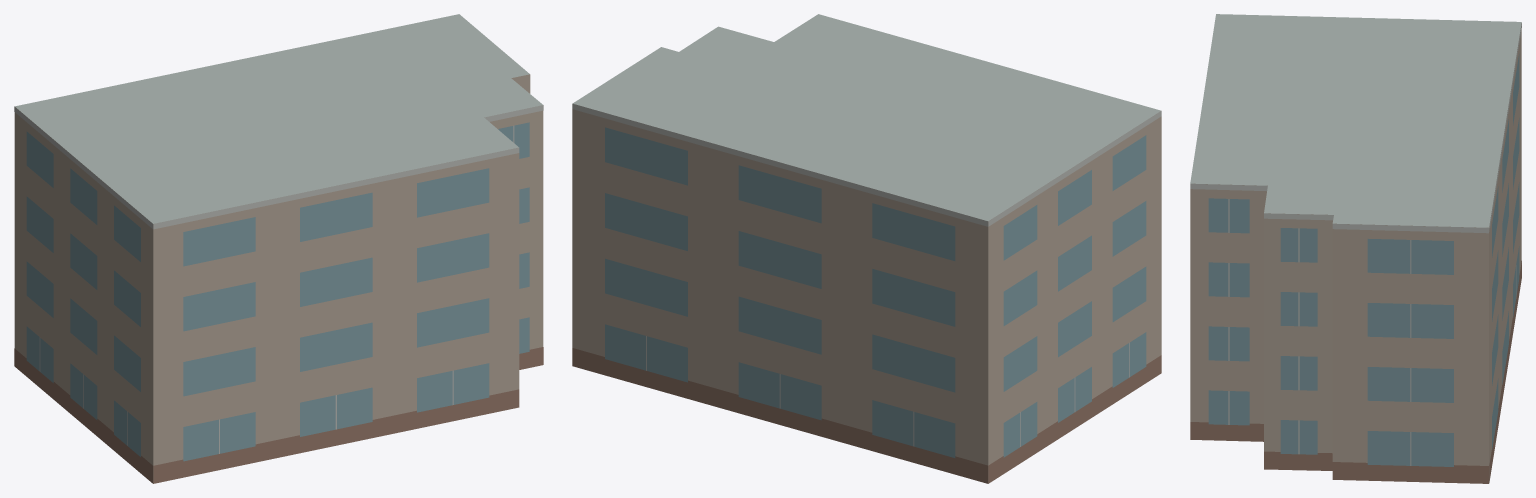
File: survey-upis-32671888.glb
The picture shows the model from 3 angles, left to right: view 1: azimuth 30°, elevation 25°; view 2: azimuth 150°, elevation 25°; view 3: azimuth 270°, elevation 25°; orthographic projection. The views are drawn at different scales.
Visible parts, largest first — view 1: survey-upis-32671888.tmp; view 2: survey-upis-32671888.tmp; view 3: survey-upis-32671888.tmp.
Boxes of the visible parts, bbox=[...] form: survey-upis-32671888.tmp: bbox=[14, 14, 543, 483]; survey-upis-32671888.tmp: bbox=[572, 14, 1161, 483]; survey-upis-32671888.tmp: bbox=[1190, 14, 1521, 483].
Size of the model in its own units: 20.6 by 11.5 by 13.51.
